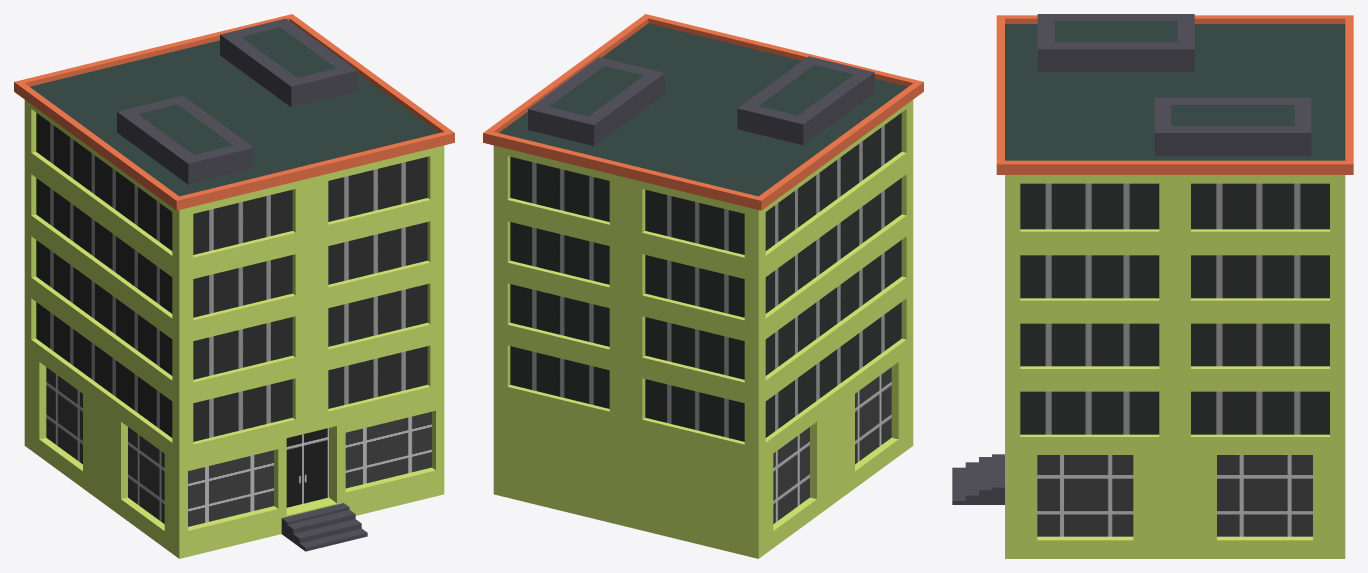
The model's file is building17b.FBX.
The picture shows the model from 3 angles, left to right: view 1: azimuth 30°, elevation 25°; view 2: azimuth 150°, elevation 25°; view 3: azimuth 270°, elevation 25°; orthographic projection. The views are drawn at different scales.
Parts seen in each view (by area): view 1: building17b; view 2: building17b; view 3: building17b.
Boxes of the visible parts, x1,y1,x2,y2 form: building17b: (14,14,454,558); building17b: (483,14,923,558); building17b: (952,14,1353,558).
Bounding box in the file's own units: 21.12 × 27.44 × 24.01.
